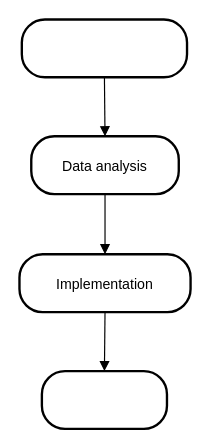
The diagram is 210 pixels wide and 448 high, and some of its shapes have lost their labels. Each missing label, with the centre of its shape:
Data collection: the point at 104,48
Evaluation: the point at 104,399
